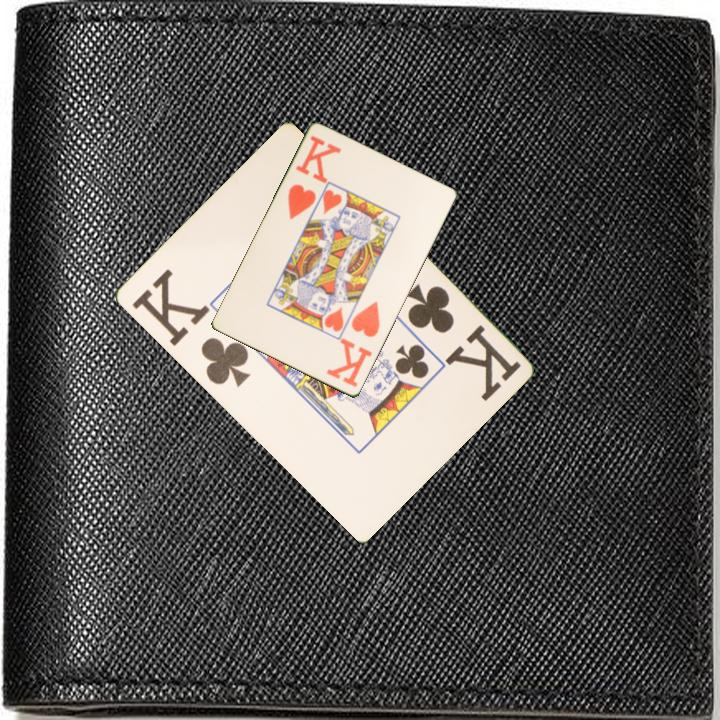Kc: (127, 266, 253, 390), (402, 280, 524, 403)
Kh: (323, 298, 383, 390), (284, 132, 344, 223)
